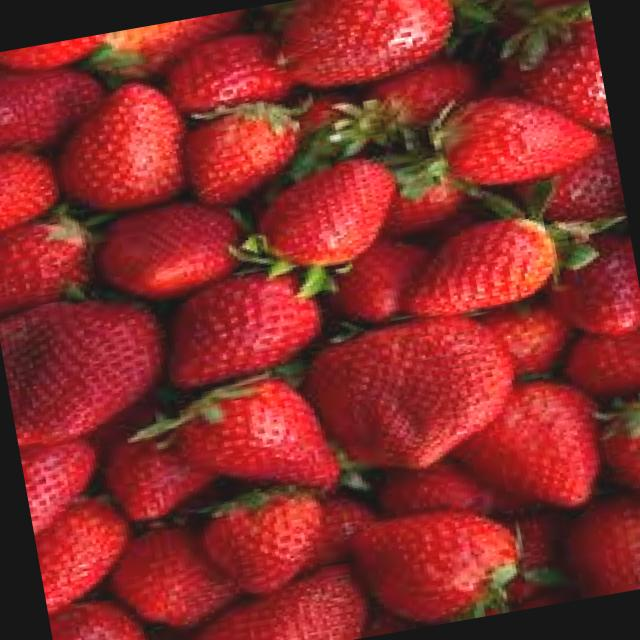strawberry: (320, 306, 516, 484), (154, 363, 337, 525), (402, 78, 618, 204), (352, 486, 525, 636), (156, 264, 328, 388), (245, 152, 403, 282), (52, 74, 190, 218), (411, 206, 574, 326), (269, 0, 468, 93), (110, 190, 256, 305), (189, 96, 326, 208), (210, 485, 334, 595)
